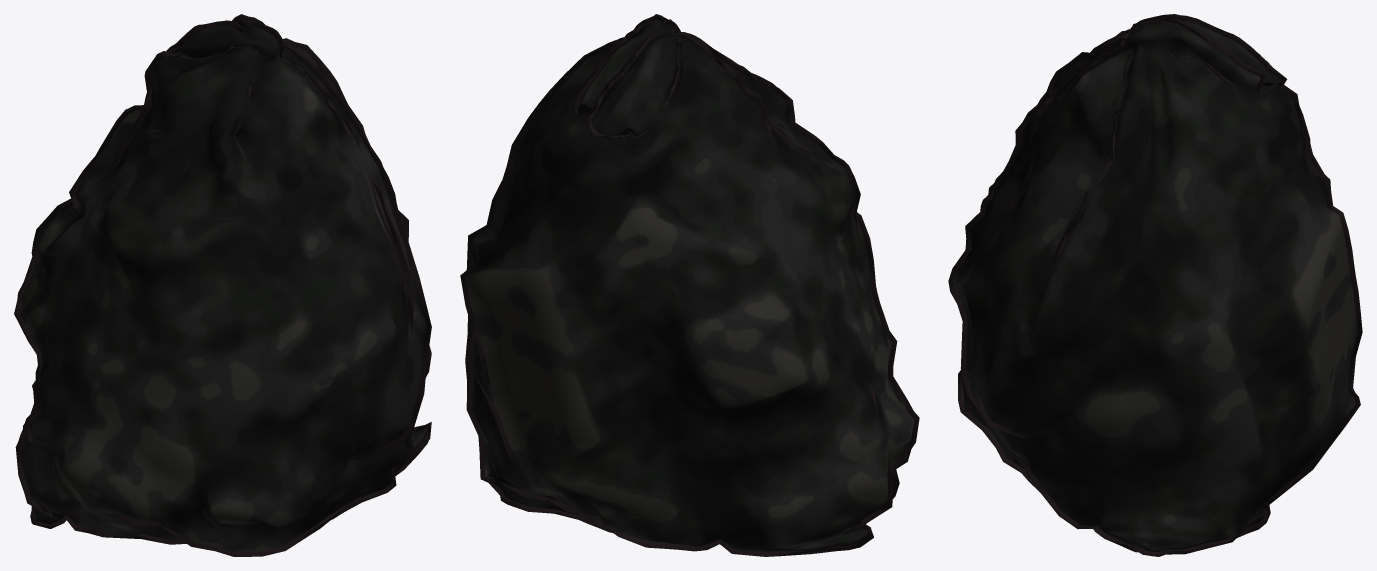
The model's file is SM_Int_TrashBag.fbx.
3 renders of one model, left to right at view 1: azimuth 30°, elevation 25°; view 2: azimuth 150°, elevation 25°; view 3: azimuth 270°, elevation 25°, orthographic. The views are drawn at different scales.
Visible parts, largest first — view 1: SM_Int_TrashBag; view 2: SM_Int_TrashBag; view 3: SM_Int_TrashBag.
Part boxes in pixels (x1,y1,x2,y2): SM_Int_TrashBag: (14, 14, 431, 556); SM_Int_TrashBag: (460, 14, 919, 556); SM_Int_TrashBag: (948, 14, 1362, 556).
Size of what is drawn, in the model's own units: 0.5383 by 0.587 by 0.4741.
